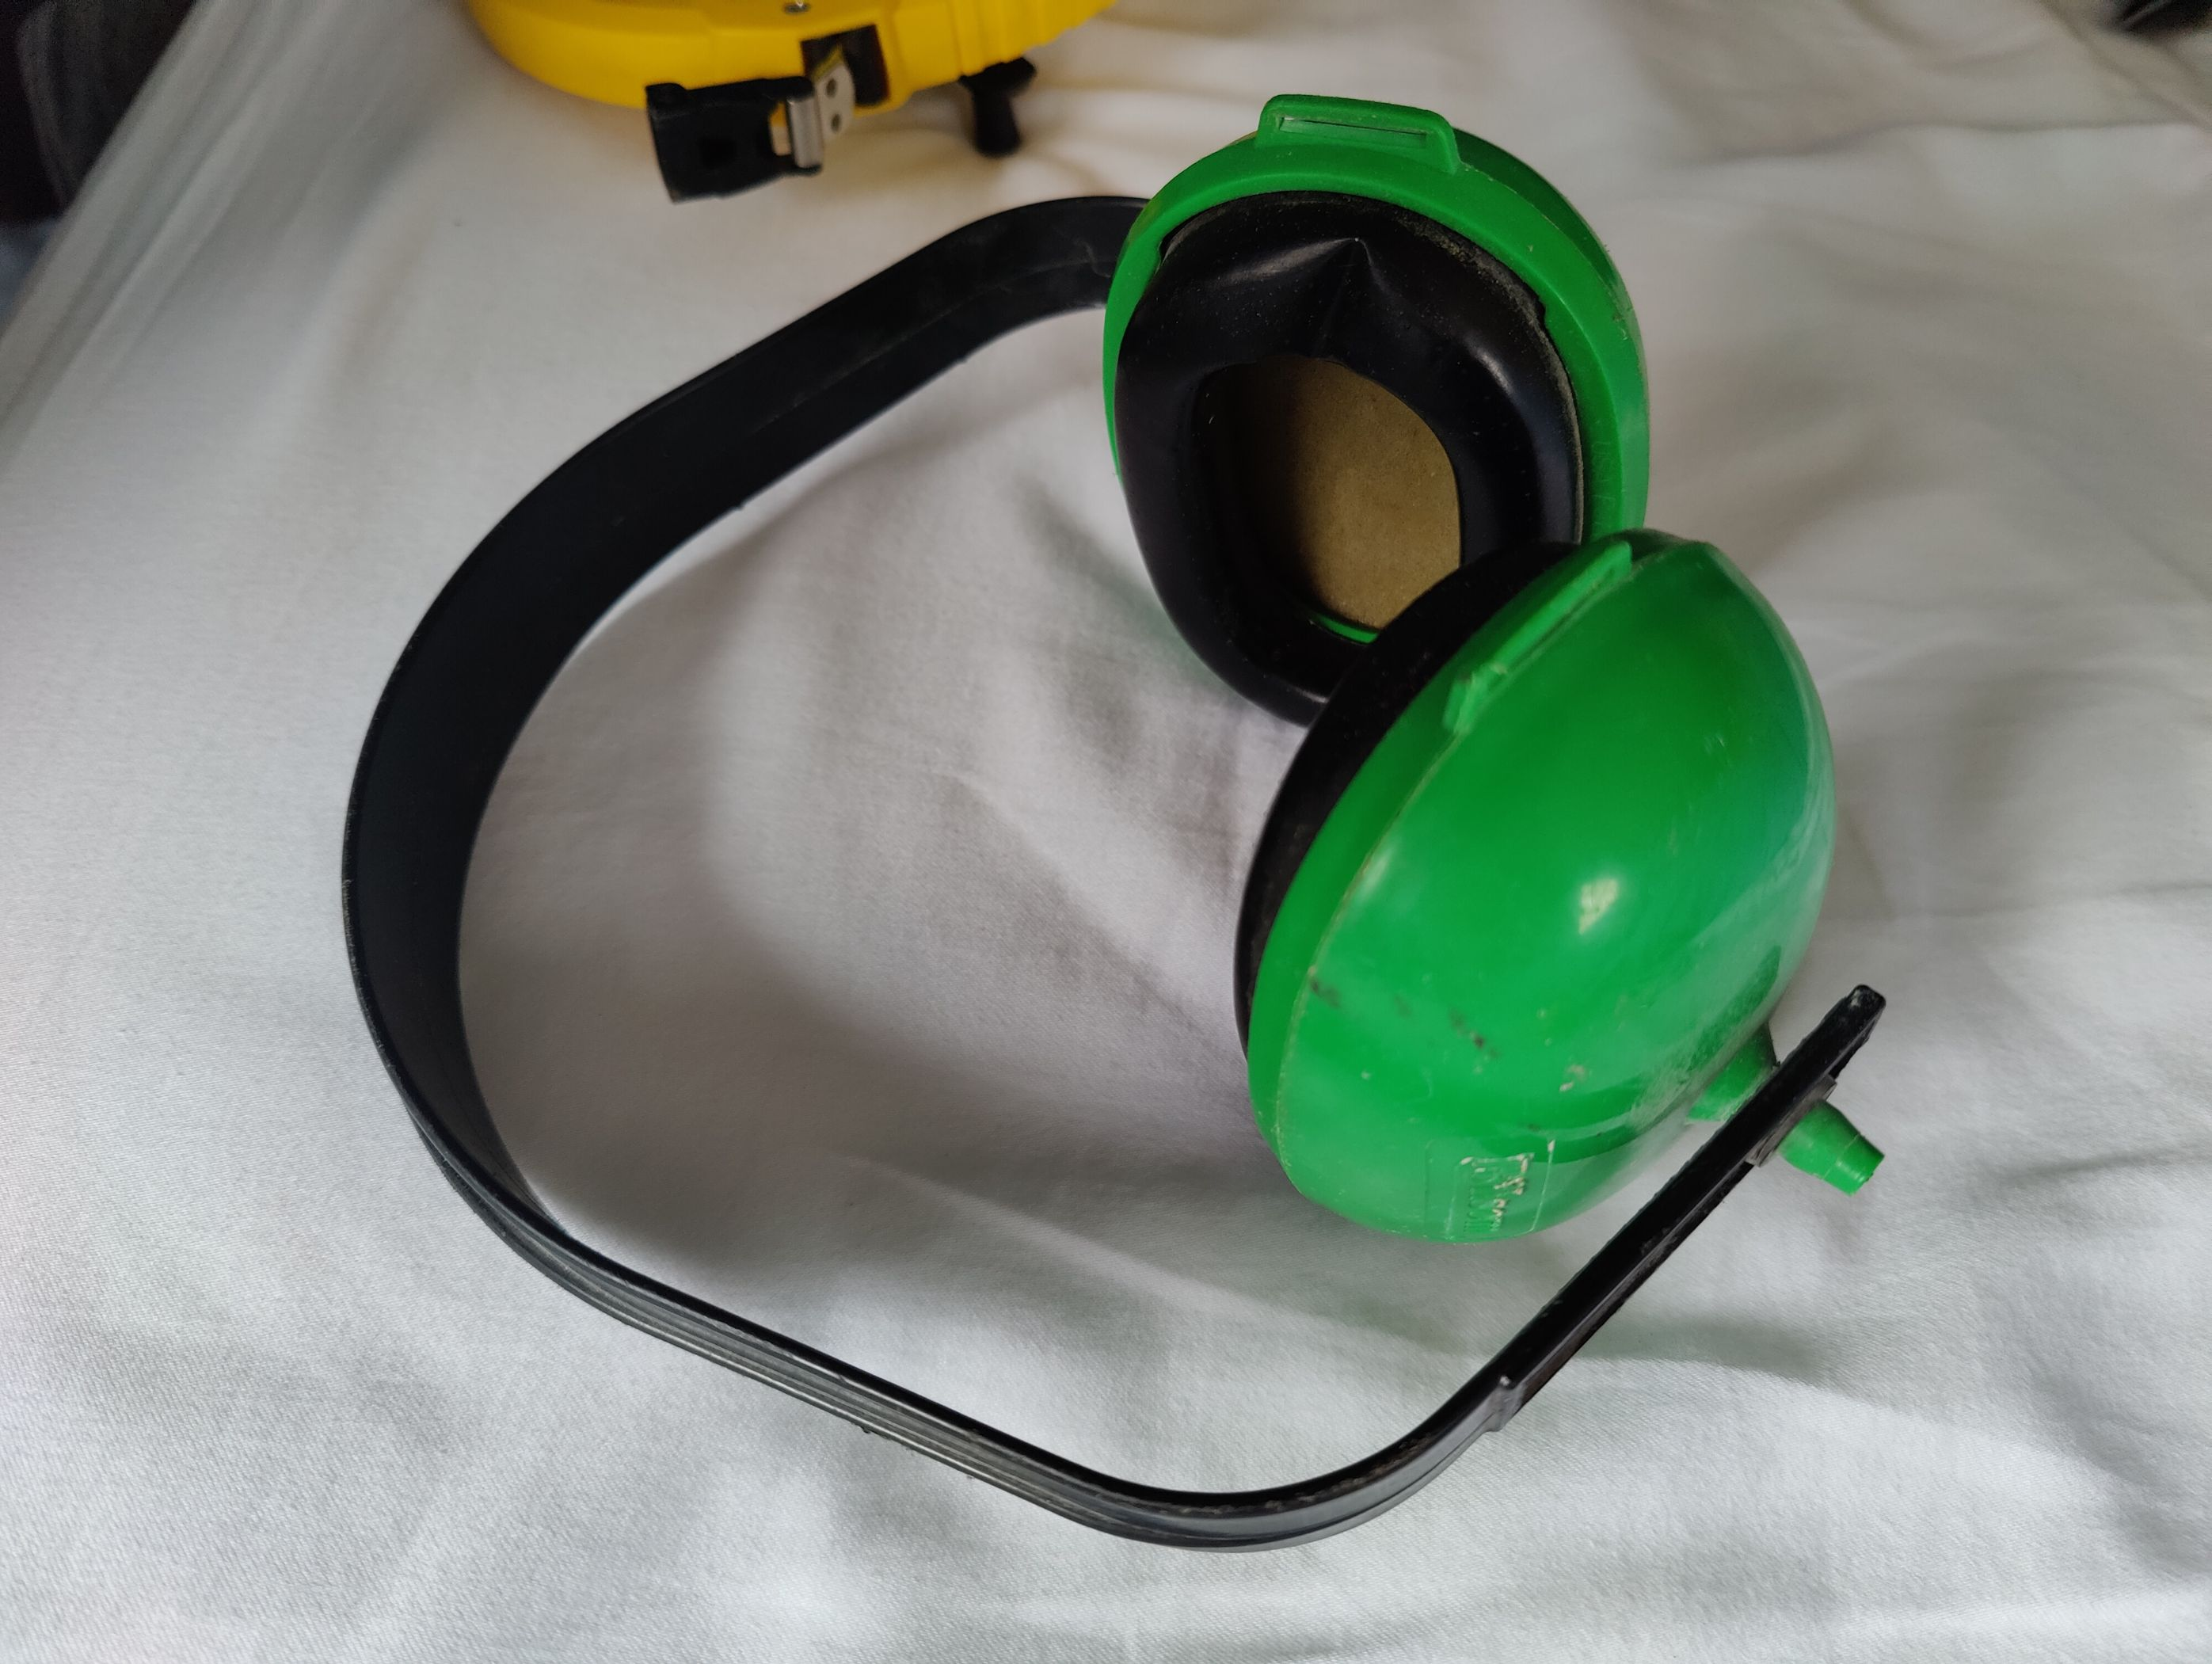headphones: (335, 98, 1896, 1554)
